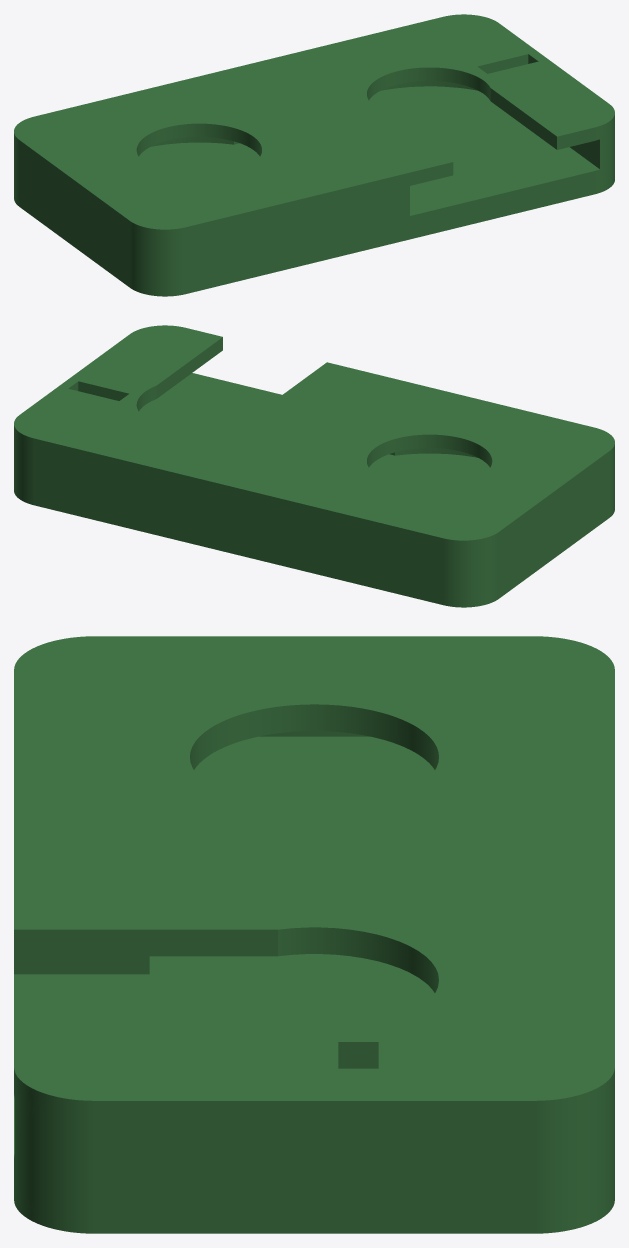
Rendered from plunger_clip.glb.
The picture shows the model from 3 angles, top to bottom: view 1: azimuth 30°, elevation 25°; view 2: azimuth 150°, elevation 25°; view 3: azimuth 270°, elevation 25°; orthographic projection. The views are drawn at different scales.
Visible parts, largest first — view 1: _glb_clip; view 2: _glb_clip; view 3: _glb_clip.
Part boxes in pixels (left/top/right/bottom): _glb_clip: left=14, top=14, right=614, bottom=296; _glb_clip: left=14, top=325, right=614, bottom=607; _glb_clip: left=14, top=636, right=614, bottom=1233.
Size of the model in its own units: 0.03 by 0.004 by 0.0164.
